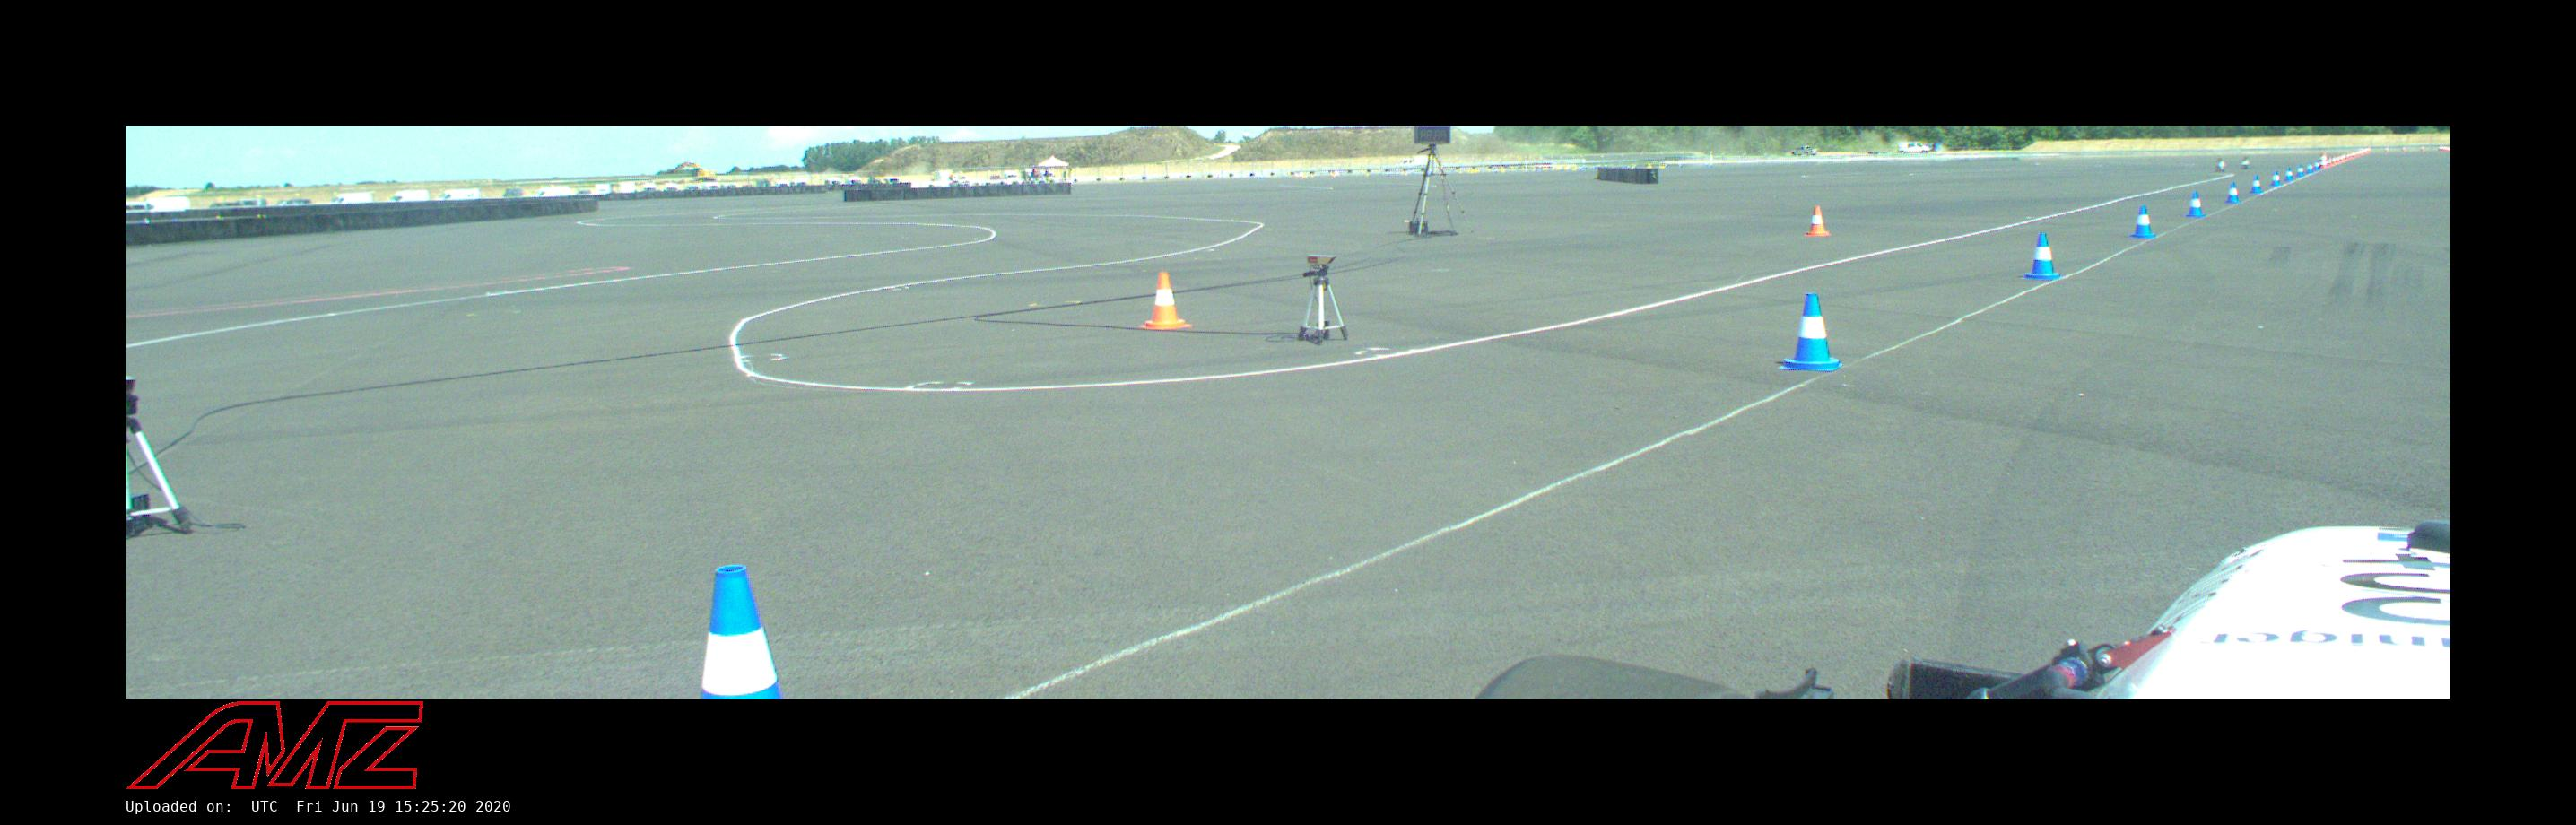blue_cone: (698, 567, 782, 695), (1779, 294, 1843, 371), (2026, 233, 2060, 279), (2131, 205, 2155, 238), (2187, 192, 2206, 217), (2226, 182, 2241, 202), (2251, 176, 2262, 192), (2270, 171, 2282, 186), (2285, 168, 2295, 181), (2297, 164, 2305, 177), (2307, 163, 2315, 173), (2315, 161, 2320, 171)
large_orange_cone: (2320, 153, 2328, 169)
orange_cone: (1140, 273, 1191, 327), (1804, 207, 1828, 237)
